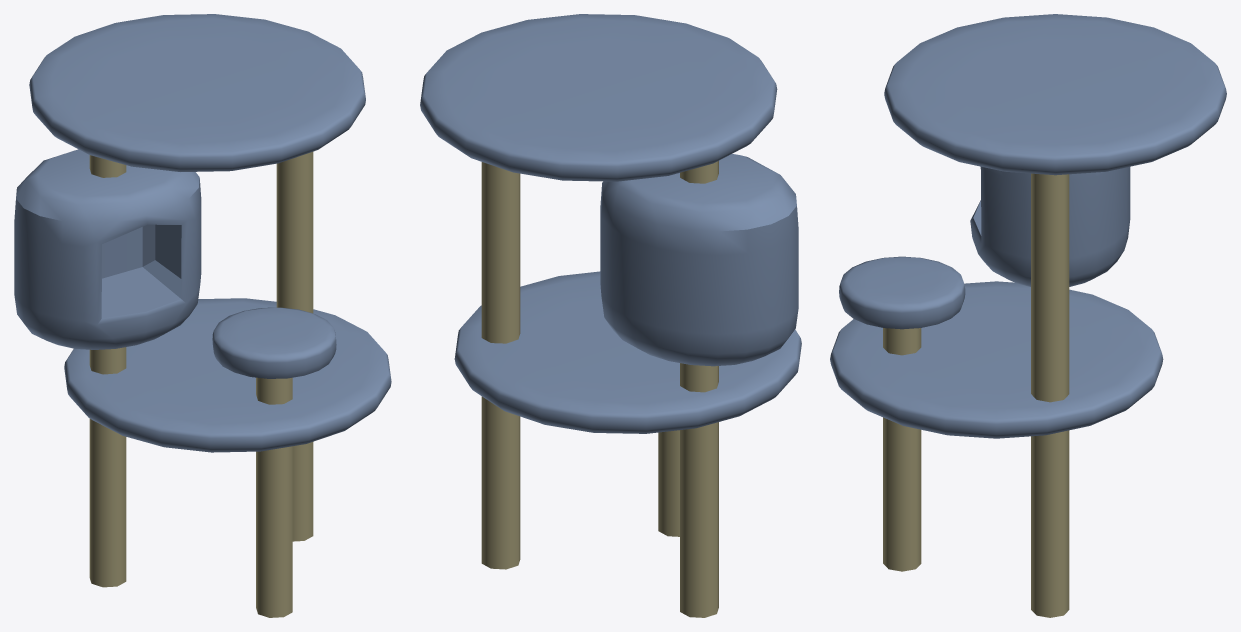
The model's file is cat_tower.fbx.
3 renders of one model, left to right at view 1: azimuth 30°, elevation 25°; view 2: azimuth 150°, elevation 25°; view 3: azimuth 270°, elevation 25°, orthographic. The views are drawn at different scales.
Parts seen in each view (by area): view 1: cat_tower; view 2: cat_tower; view 3: cat_tower.
Boxes of the visible parts, left/top/right/bottom form: cat_tower: left=14, top=14, right=391, bottom=617; cat_tower: left=420, top=14, right=801, bottom=617; cat_tower: left=830, top=14, right=1226, bottom=617.
Size of the model in its own units: 2.93 by 4.1 by 3.07.
